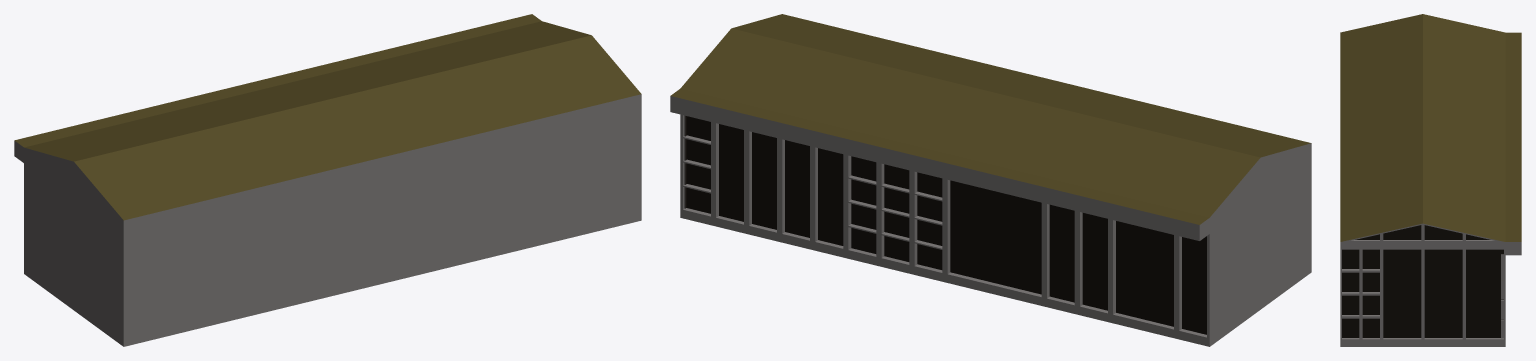
Rendered from bus station.fbx.
The picture shows the model from 3 angles, left to right: view 1: azimuth 30°, elevation 25°; view 2: azimuth 150°, elevation 25°; view 3: azimuth 270°, elevation 25°; orthographic projection. The views are drawn at different scales.
Parts seen in each view (by area): view 1: Cube; view 2: Cube; view 3: Cube.
Part boxes in pixels (x1,y1,x2,y2): Cube: [14, 14, 641, 346]; Cube: [670, 14, 1311, 346]; Cube: [1340, 14, 1521, 346].
Bounding box in the file's own units: 3000 × 824 × 1098.
